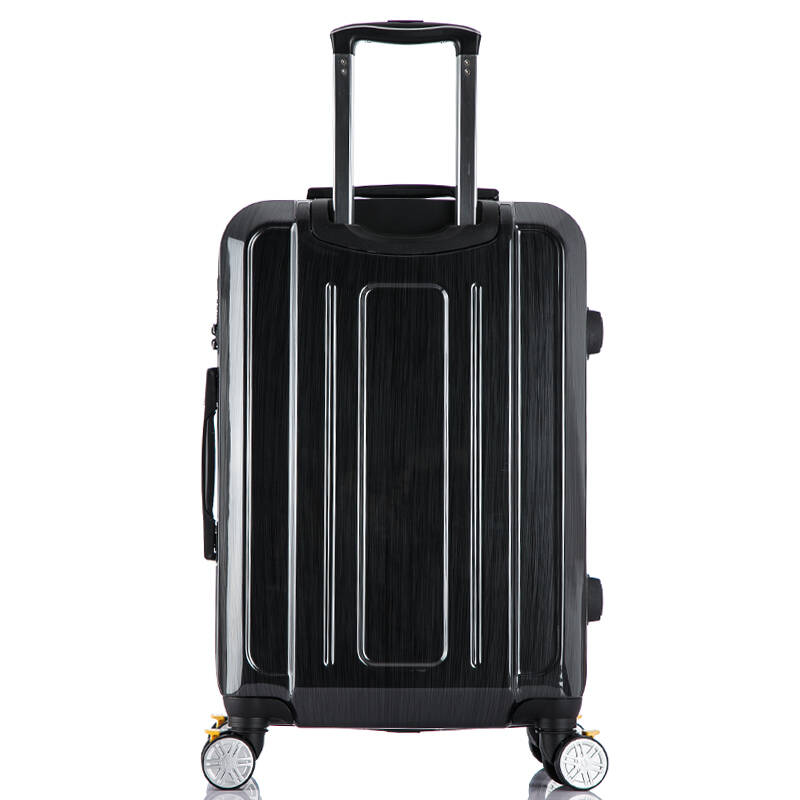luggage: (199, 19, 611, 792)
